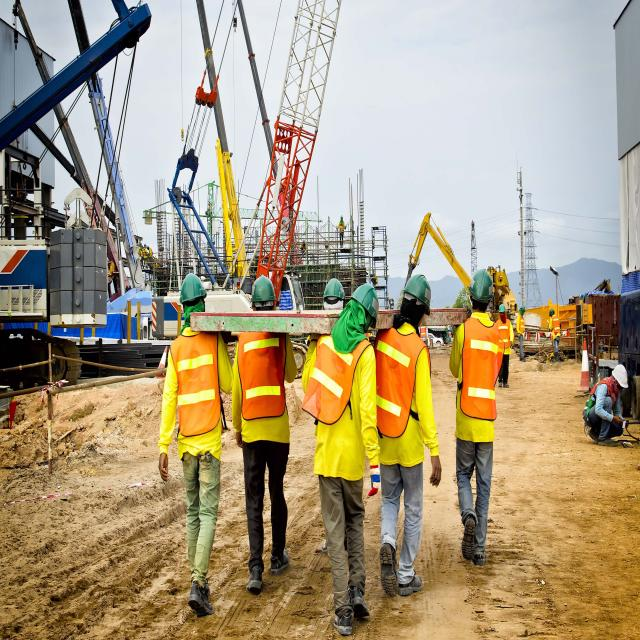Reflective-Jacket: (306, 330, 376, 476), (162, 329, 223, 453), (376, 324, 434, 444), (236, 331, 291, 438), (456, 313, 503, 438), (499, 317, 512, 353), (551, 315, 561, 337)
Safety-Helmet: (399, 268, 434, 307), (466, 264, 496, 304), (177, 272, 208, 306), (250, 272, 276, 304), (322, 274, 346, 301), (612, 361, 630, 389), (499, 302, 508, 314), (550, 308, 556, 316)
